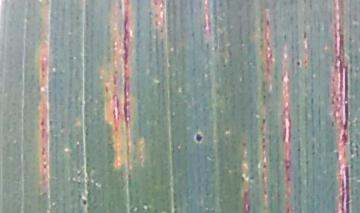tarspot: (189, 131, 208, 145), (80, 195, 92, 207), (294, 59, 303, 69)
